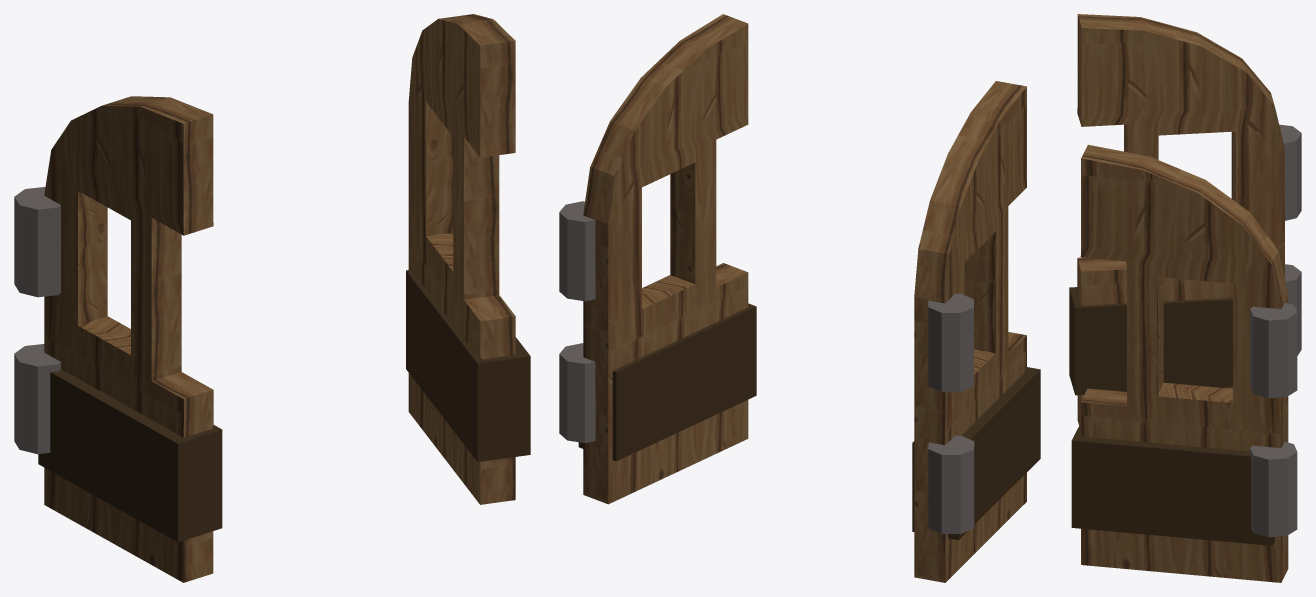
Rendered from ворота.fbx.
3 views of the same model, side by side, from view 1: azimuth 30°, elevation 25°; view 2: azimuth 150°, elevation 25°; view 3: azimuth 270°, elevation 25° (orthographic). The views are drawn at different scales.
Parts seen in each view (by area): view 1: Окружность.012, Окружность.013; view 2: Окружность.013, Окружность.012; view 3: Окружность.013, Окружность.012.
Part boxes in pixels (bbox=[...]): Окружность.012: bbox=[14, 96, 222, 582]; Окружность.013: bbox=[406, 14, 530, 504]; Окружность.013: bbox=[559, 14, 756, 504]; Окружность.012: bbox=[912, 81, 1040, 582]; Окружность.013: bbox=[1071, 144, 1297, 582]; Окружность.012: bbox=[1069, 14, 1301, 425].
Bounding box in the file's own units: 44.72 × 43.1 × 22.34.
4 materials, 1 textured.
